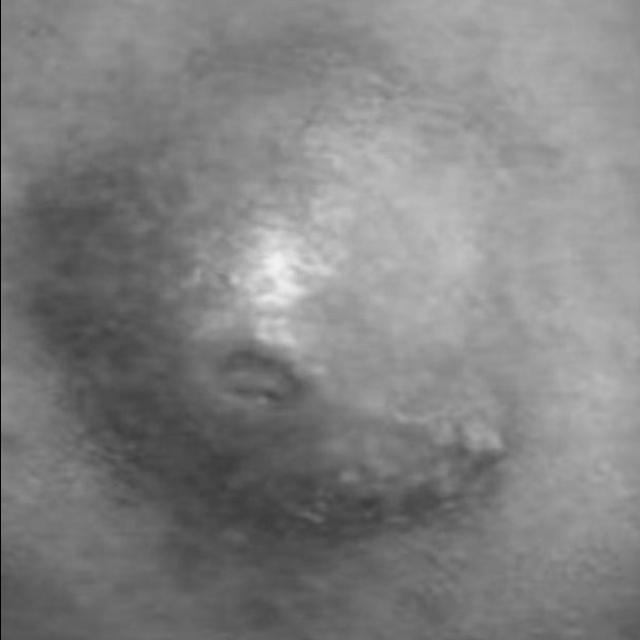nodule: (7, 31, 551, 577)
